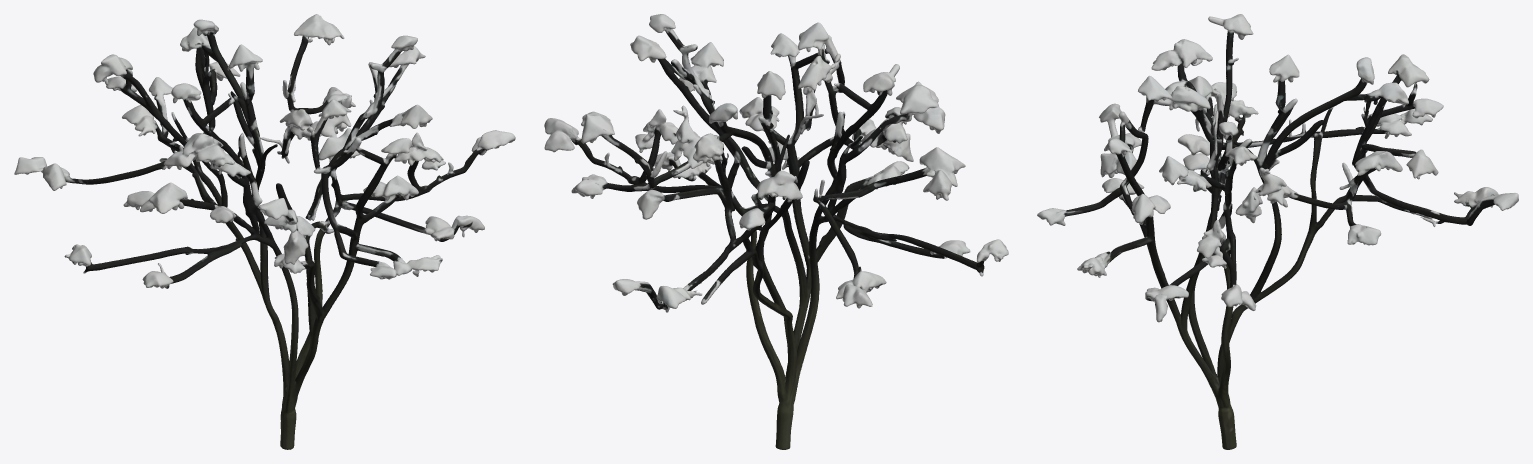
File: flower-decoded.glb
The picture shows the model from 3 angles, left to right: view 1: azimuth 30°, elevation 25°; view 2: azimuth 150°, elevation 25°; view 3: azimuth 270°, elevation 25°; orthographic projection. The views are drawn at different scales.
Visible parts, largest first — view 1: tripo_node_a7c558be-b604-45e3-8e01-db3e10dcdd70; view 2: tripo_node_a7c558be-b604-45e3-8e01-db3e10dcdd70; view 3: tripo_node_a7c558be-b604-45e3-8e01-db3e10dcdd70.
Part boxes in pixels (bbox=[...]): tripo_node_a7c558be-b604-45e3-8e01-db3e10dcdd70: bbox=[14, 14, 515, 449]; tripo_node_a7c558be-b604-45e3-8e01-db3e10dcdd70: bbox=[544, 14, 1008, 449]; tripo_node_a7c558be-b604-45e3-8e01-db3e10dcdd70: bbox=[1037, 14, 1518, 449].
Size of the model in its own units: 1 by 0.8307 by 0.9418.
Materials: 1 (1 with a texture image).
